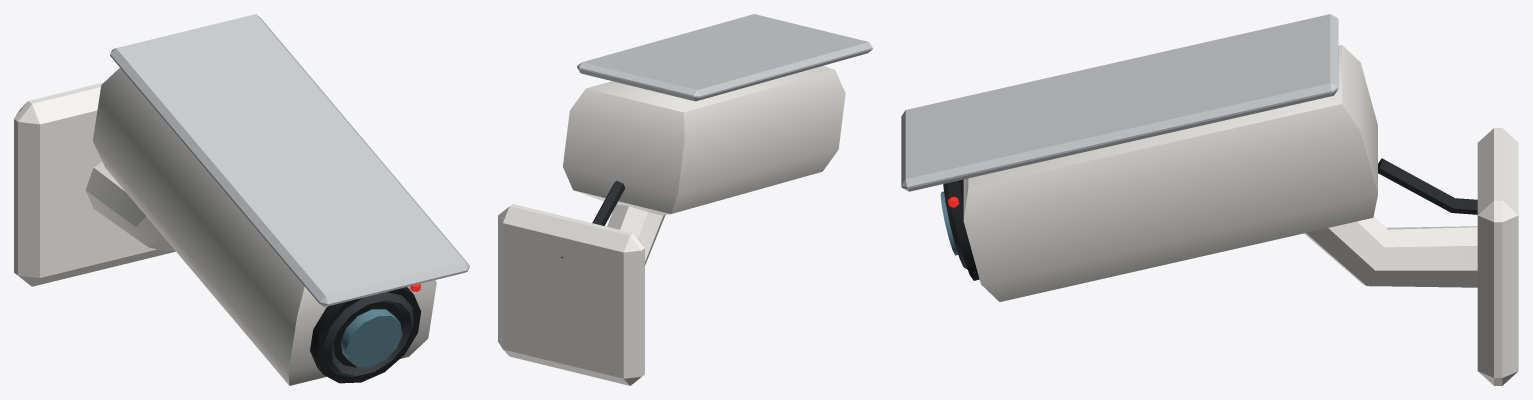
The model's file is SC_Fix_CCTV_Bullet.gltf.
3 views of the same model, side by side, from view 1: azimuth 30°, elevation 25°; view 2: azimuth 150°, elevation 25°; view 3: azimuth 270°, elevation 25° (orthographic). The views are drawn at different scales.
Parts seen in each view (by area): view 1: SC_Fix_CCTV_Bullet; view 2: SC_Fix_CCTV_Bullet; view 3: SC_Fix_CCTV_Bullet.
Boxes of the visible parts, left/top/right/bottom form: SC_Fix_CCTV_Bullet: left=14, top=14, right=469, bottom=385; SC_Fix_CCTV_Bullet: left=498, top=14, right=872, bottom=385; SC_Fix_CCTV_Bullet: left=901, top=14, right=1518, bottom=385.
Size of the model in its own units: 0.1 by 0.1624 by 0.3019.
2 materials, 2 textured.
